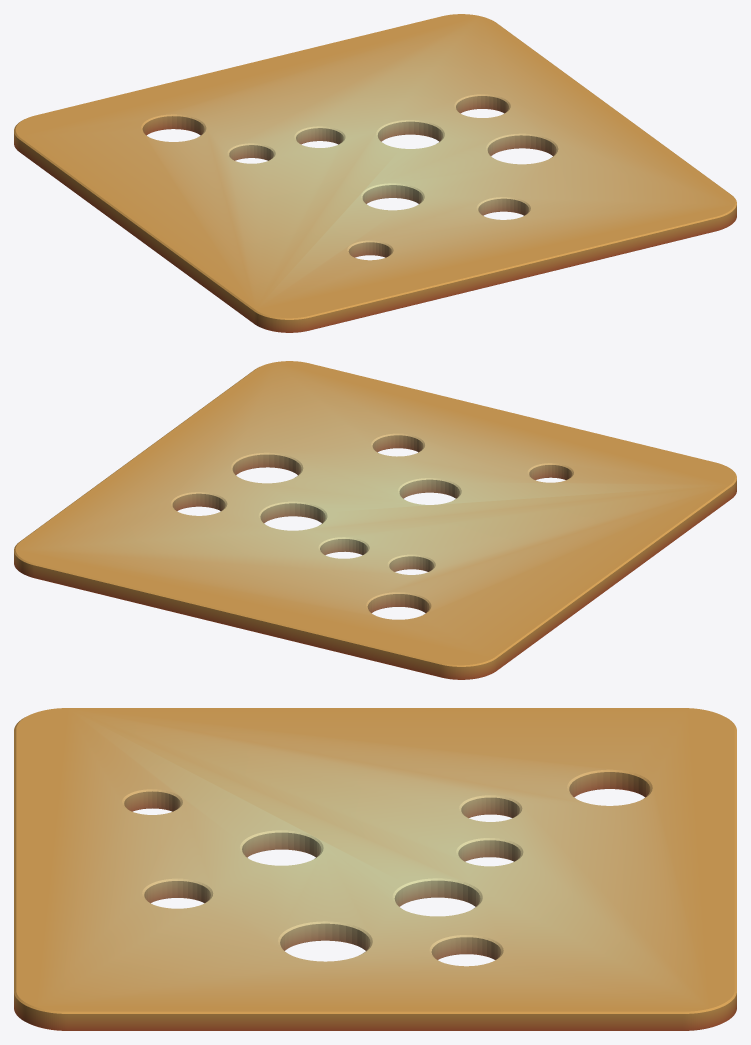
Rendered from cheese_slice_papercut.glb.
3 renders of one model, top to bottom at view 1: azimuth 30°, elevation 25°; view 2: azimuth 150°, elevation 25°; view 3: azimuth 270°, elevation 25°, orthographic. The views are drawn at different scales.
Visible parts, largest first — view 1: cheese_slice; view 2: cheese_slice; view 3: cheese_slice.
Boxes of the visible parts, x1,y1,x2,y2 form: cheese_slice: [14, 14, 736, 332]; cheese_slice: [14, 361, 736, 679]; cheese_slice: [14, 708, 736, 1030].
Size of the model in its own units: 2 by 0.0588 by 2.
